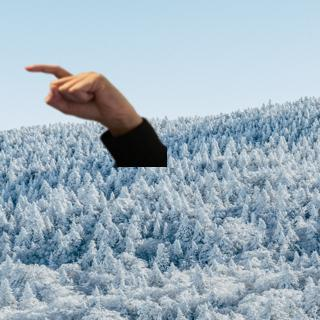WHY: (19, 58, 137, 129)
